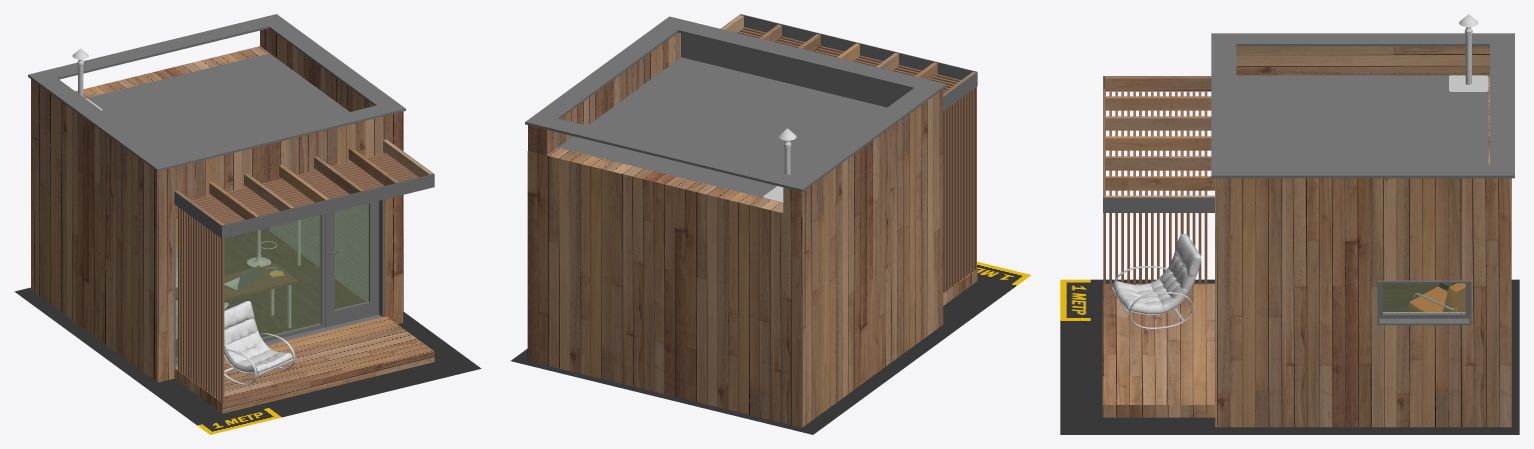
Rendered from workbox_1 (4).glb.
3 renders of one model, left to right at view 1: azimuth 30°, elevation 25°; view 2: azimuth 150°, elevation 25°; view 3: azimuth 270°, elevation 25°, orthographic. The views are drawn at different scales.
Visible parts, largest first — view 1: 518 011.001, Plastic, Cylinder1029.003, Cube, Box276.001, Brics, objArmchair_16_Mesh_07.001, Box278.001, Cylinder005.001, objArmchair_16_Mesh_02.001, obj_03.001; view 2: 518 011.001, Plastic, Cube; view 3: 518 011.001, Plastic, Cube, objArmchair_16_Mesh_07.001, Cylinder1029.003, 499 011.003, Box276.001, Plane, Cylinder1029.001, objArmchair_16_Mesh_02.001.
Part boxes in pixels (x1,y1,x2,y2): 518 011.001: (31, 28, 434, 413); Plastic: (28, 14, 434, 367); Cylinder1029.003: (175, 203, 368, 359); Cube: (14, 287, 481, 434); Box276.001: (175, 231, 365, 357); Brics: (269, 203, 368, 301); objArmchair_16_Mesh_07.001: (224, 300, 292, 373); Box278.001: (175, 263, 298, 300); Cylinder005.001: (175, 285, 291, 338); objArmchair_16_Mesh_02.001: (224, 333, 295, 384); obj_03.001: (224, 265, 259, 290); 518 011.001: (527, 15, 977, 427); Plastic: (525, 14, 977, 202); Cube: (511, 262, 1030, 434); 518 011.001: (1102, 46, 1511, 427); Plastic: (1103, 33, 1514, 402); Cube: (1060, 279, 1519, 434); objArmchair_16_Mesh_07.001: (1112, 234, 1200, 313); Cylinder1029.003: (1383, 283, 1465, 313); 499 011.003: (1407, 283, 1465, 311); Box276.001: (1383, 283, 1447, 311); Plane: (1449, 75, 1488, 91); Cylinder1029.001: (1459, 14, 1478, 84); objArmchair_16_Mesh_02.001: (1113, 266, 1193, 328).
Bounding box in the file's own units: 0.6623 × 0.5787 × 0.8278.
18 materials, 14 textured.
